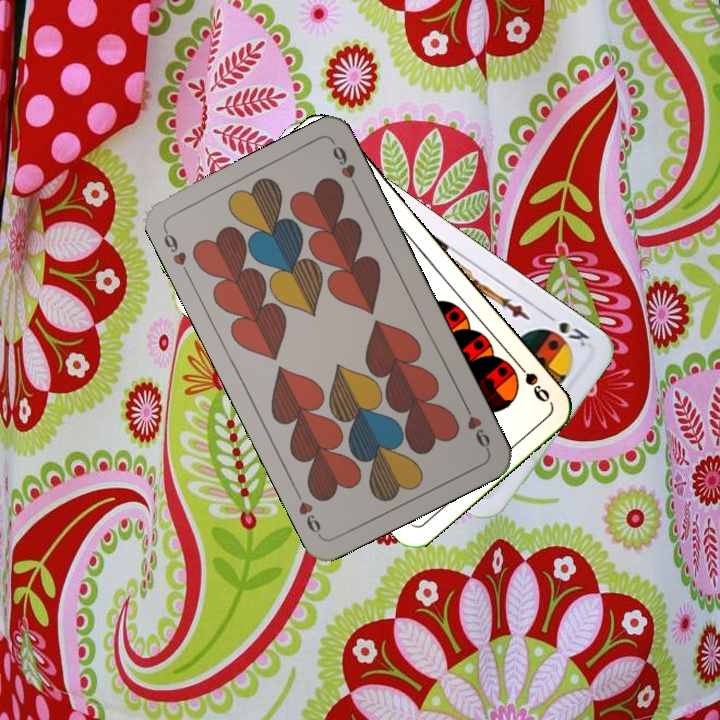H9: (459, 398, 493, 453), (159, 224, 193, 279)
S9: (510, 355, 553, 405)
SK: (540, 308, 592, 349)
